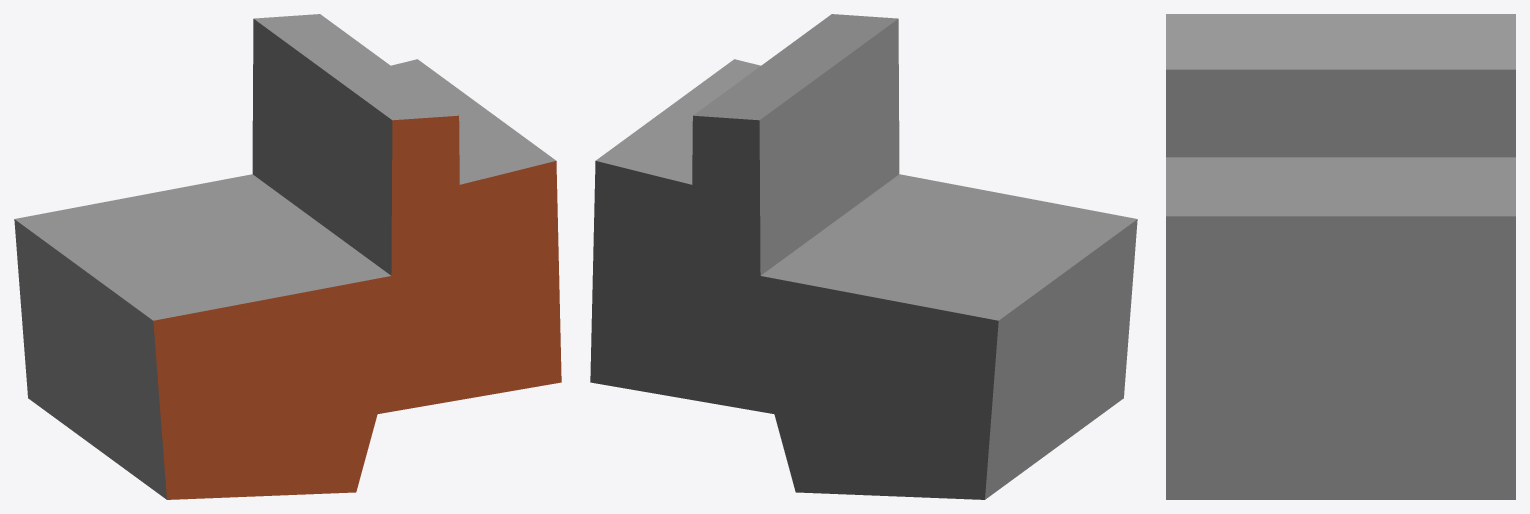
File: construction_0604_assumed_A_Casa_h6m.obj
3 views of the same model, side by side, from view 1: azimuth 30°, elevation 25°; view 2: azimuth 150°, elevation 25°; view 3: azimuth 270°, elevation 25° (orthographic). The views are drawn at different scales.
Visible parts, largest first — view 1: construction_0604_assumed_A_Casa; view 2: construction_0604_assumed_A_Casa; view 3: construction_0604_assumed_A_Casa.
Boxes of the visible parts, left/top/right/bottom form: construction_0604_assumed_A_Casa: left=14, top=14, right=561, bottom=499; construction_0604_assumed_A_Casa: left=590, top=14, right=1137, bottom=499; construction_0604_assumed_A_Casa: left=1166, top=14, right=1515, bottom=499.
Size of the model in its own units: 10.18 by 8.66 by 6.
